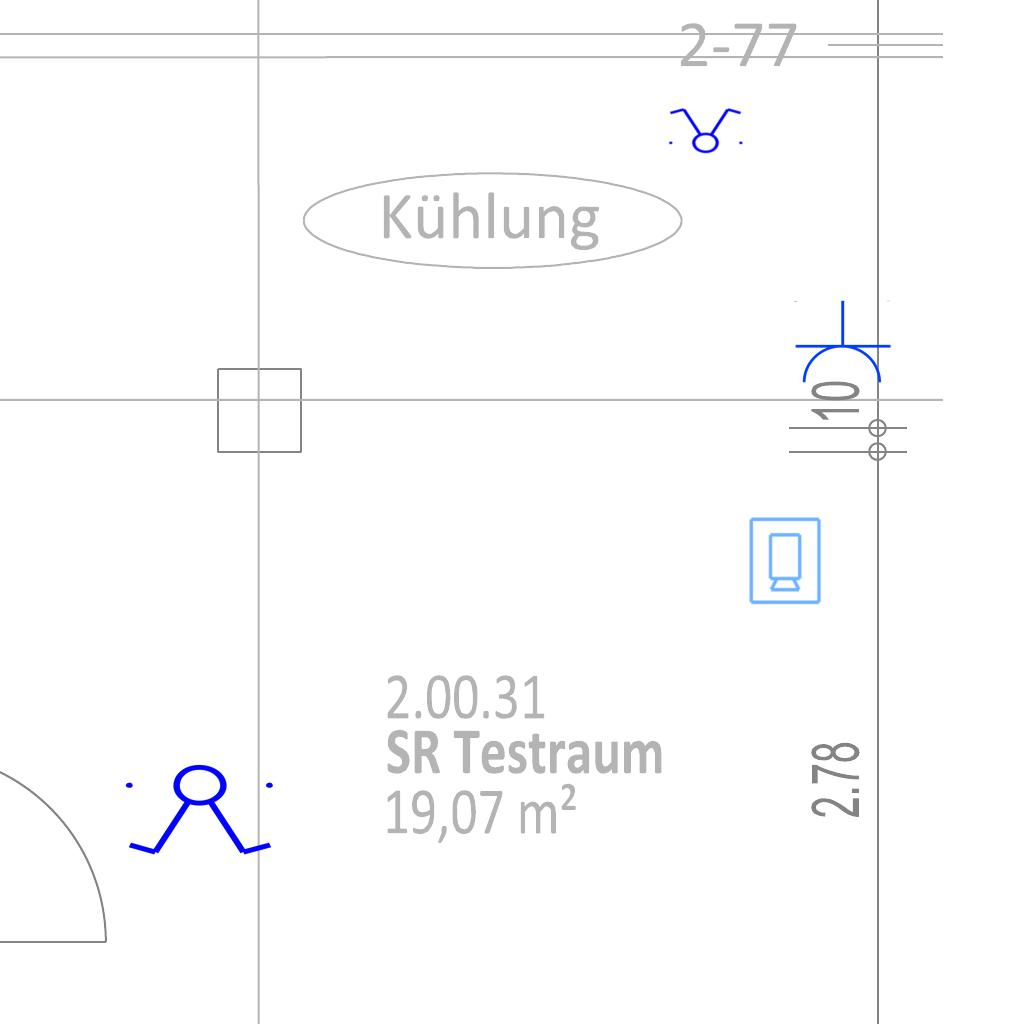KFO_Kamera_mit_Festobjektiv: (746, 515, 823, 606)
Schukosteckdose_einfach: (792, 300, 892, 387)
Serienschalter: (117, 763, 285, 859), (663, 106, 747, 154)
